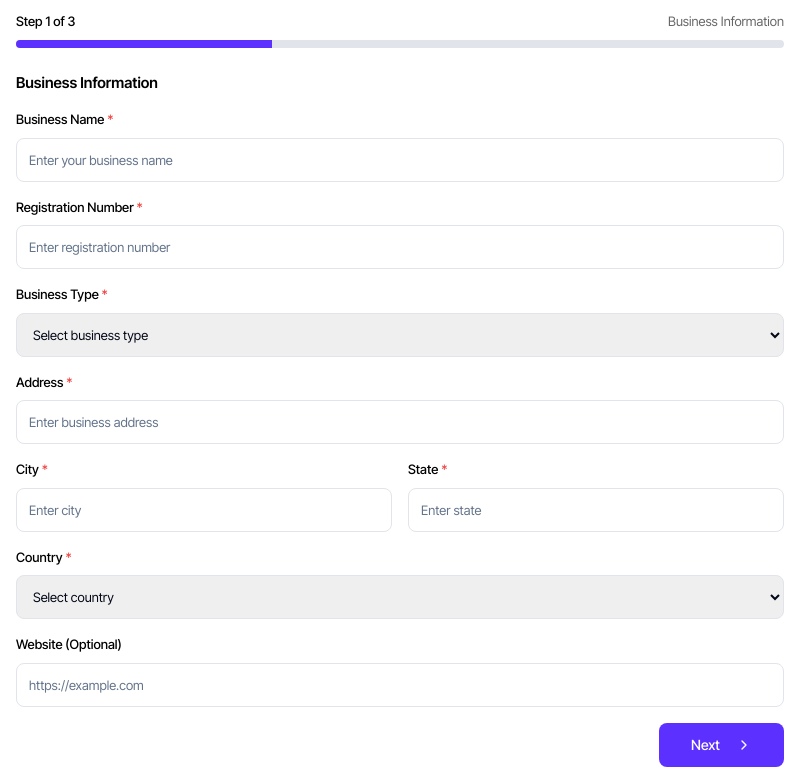
it: ApplicationForm › advances to step 2 when step 1 is valid
Note: Fill in step 1 fields
Type "Test Company" into the field labelled "business name" at (400, 160), box [16, 138, 784, 182]
Type "REG123456" into the field labelled "registration number" at (400, 247), box [16, 225, 784, 269]
Select "LLC" in the dropdown named "Business type" at (400, 334), box [16, 312, 784, 356]
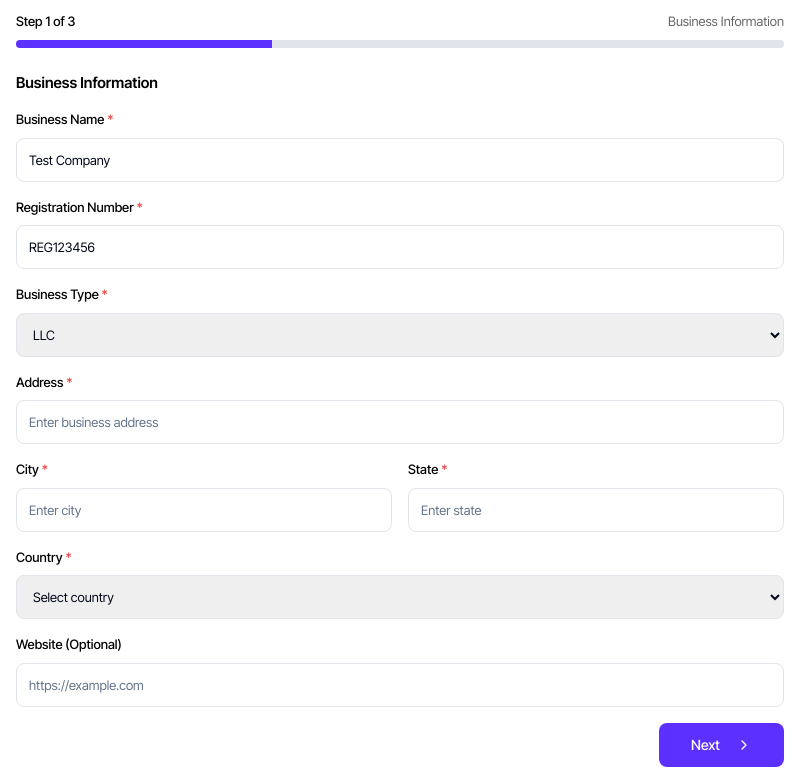
Type "123 Test Street" into the field labelled "business address" at (400, 422), box [16, 400, 784, 444]
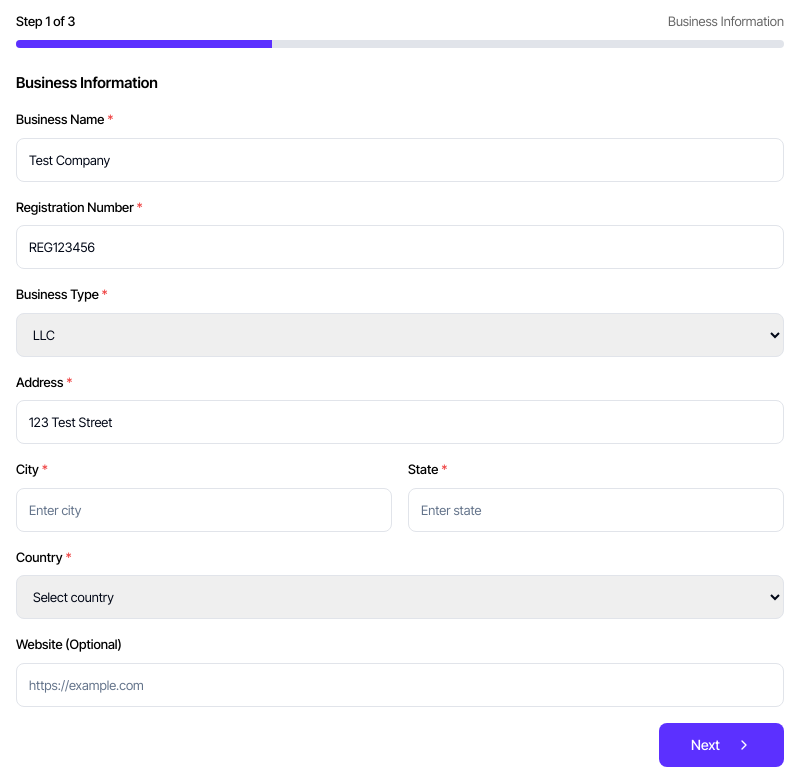
Type "Lagos" into the field labelled "city" at (204, 510), box [16, 488, 392, 532]
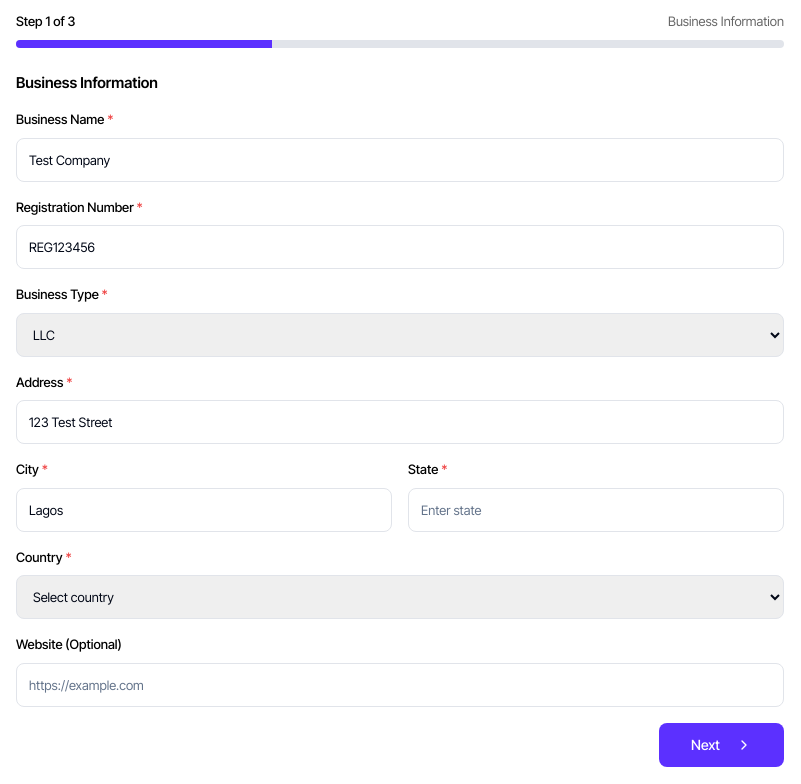
Type "Lagos State" into the field labelled "state" at (596, 510), box [408, 488, 784, 532]
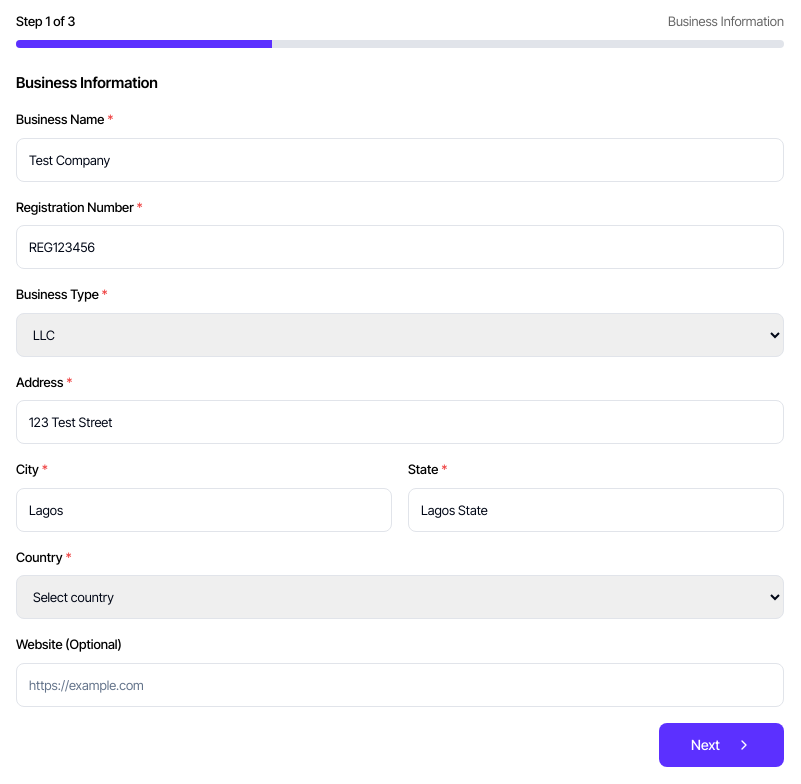
Select "Nigeria" in the dropdown named "Country" at (400, 597), box [16, 575, 784, 619]
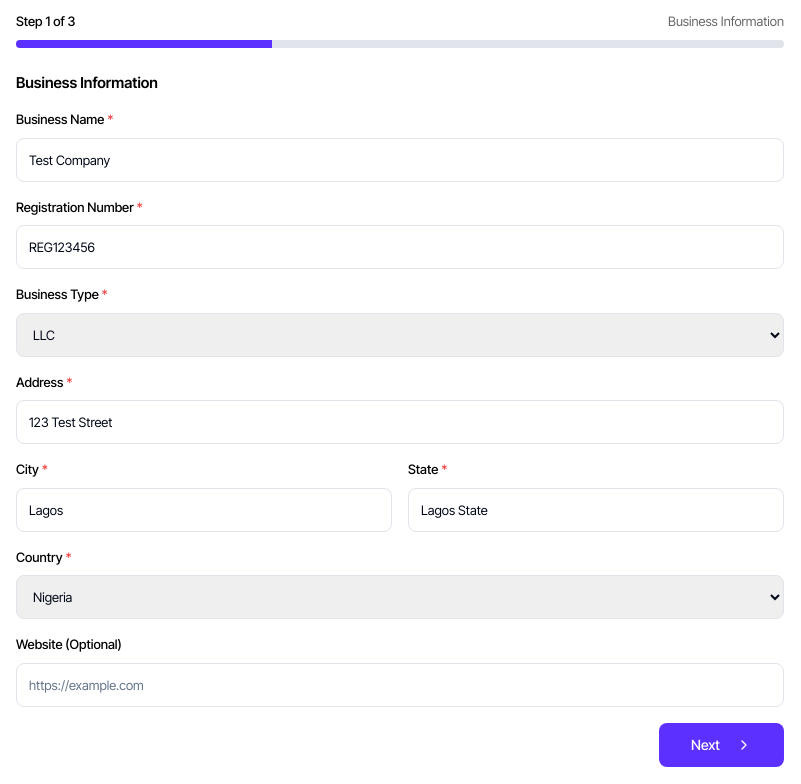
Click the button "Next" at (722, 744), box [659, 722, 784, 766]
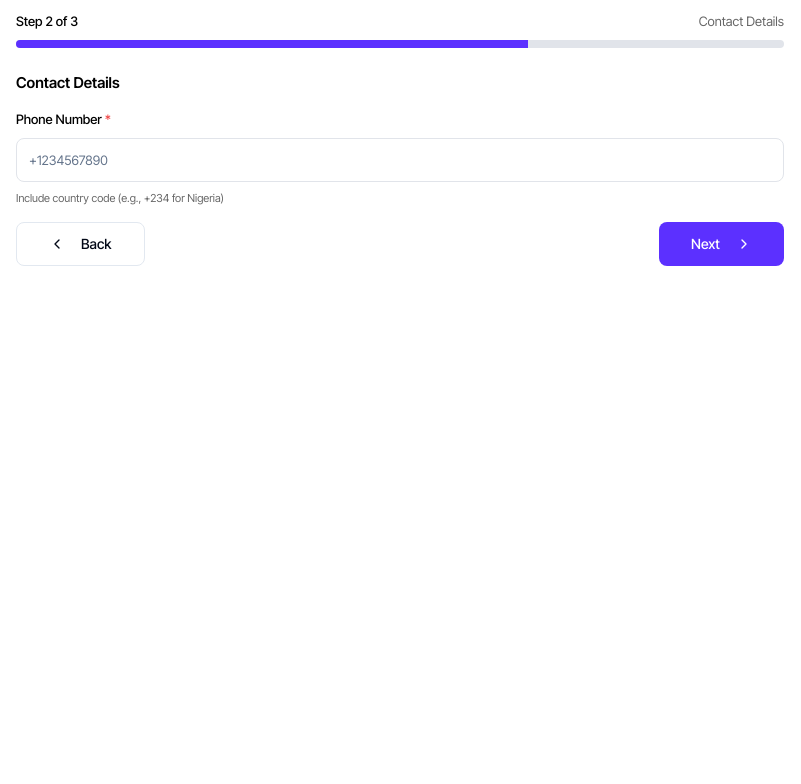
Check: the heading "Contact Details" is shown, box [16, 72, 120, 92]
Check: the text "Step 2 of 3" is shown, box [16, 12, 78, 32]
